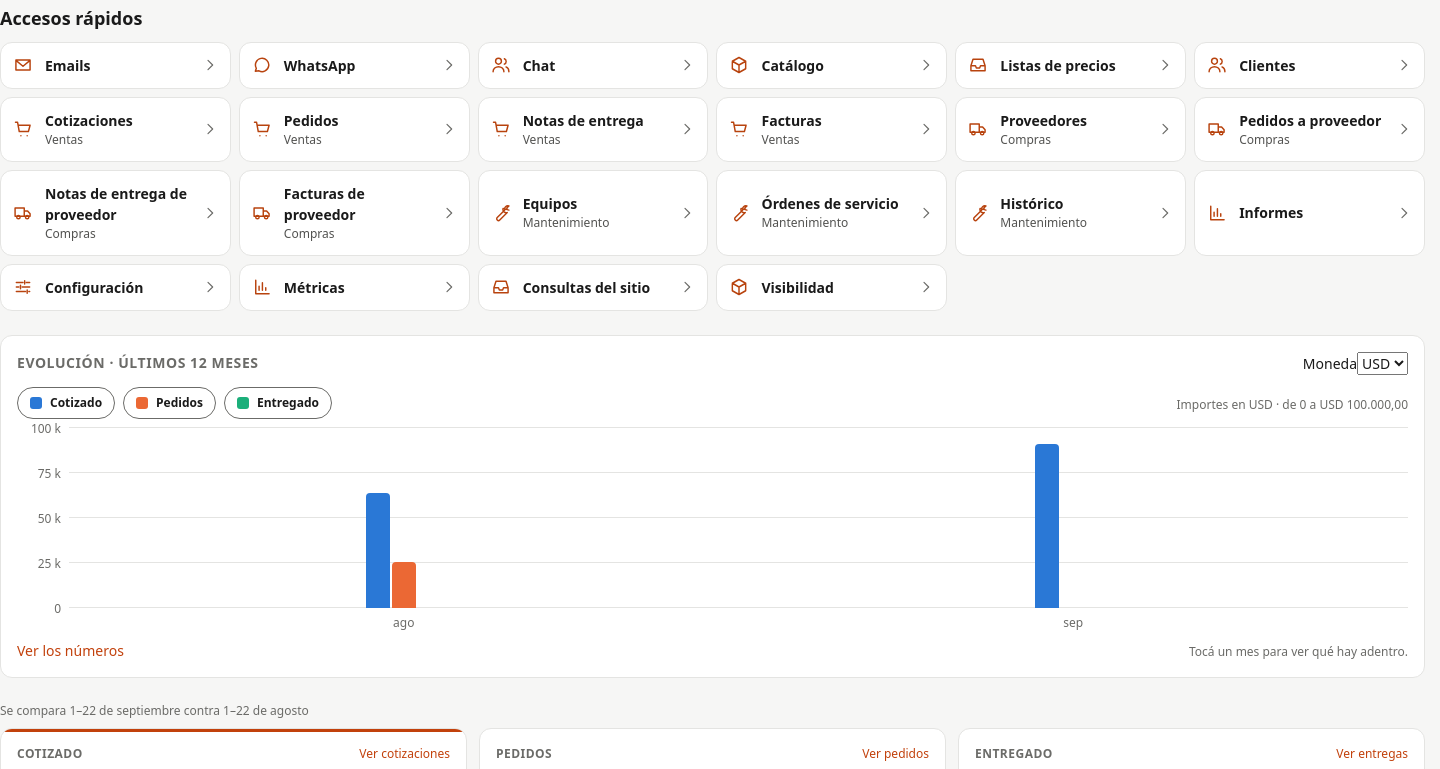
E · El desglose del mes › con un mes abierto, la pista deja de invitar
Click the 2nd button named "Septiembre 2026": x=1073, y=517 [738,426,1408,608]
(page scrolled)
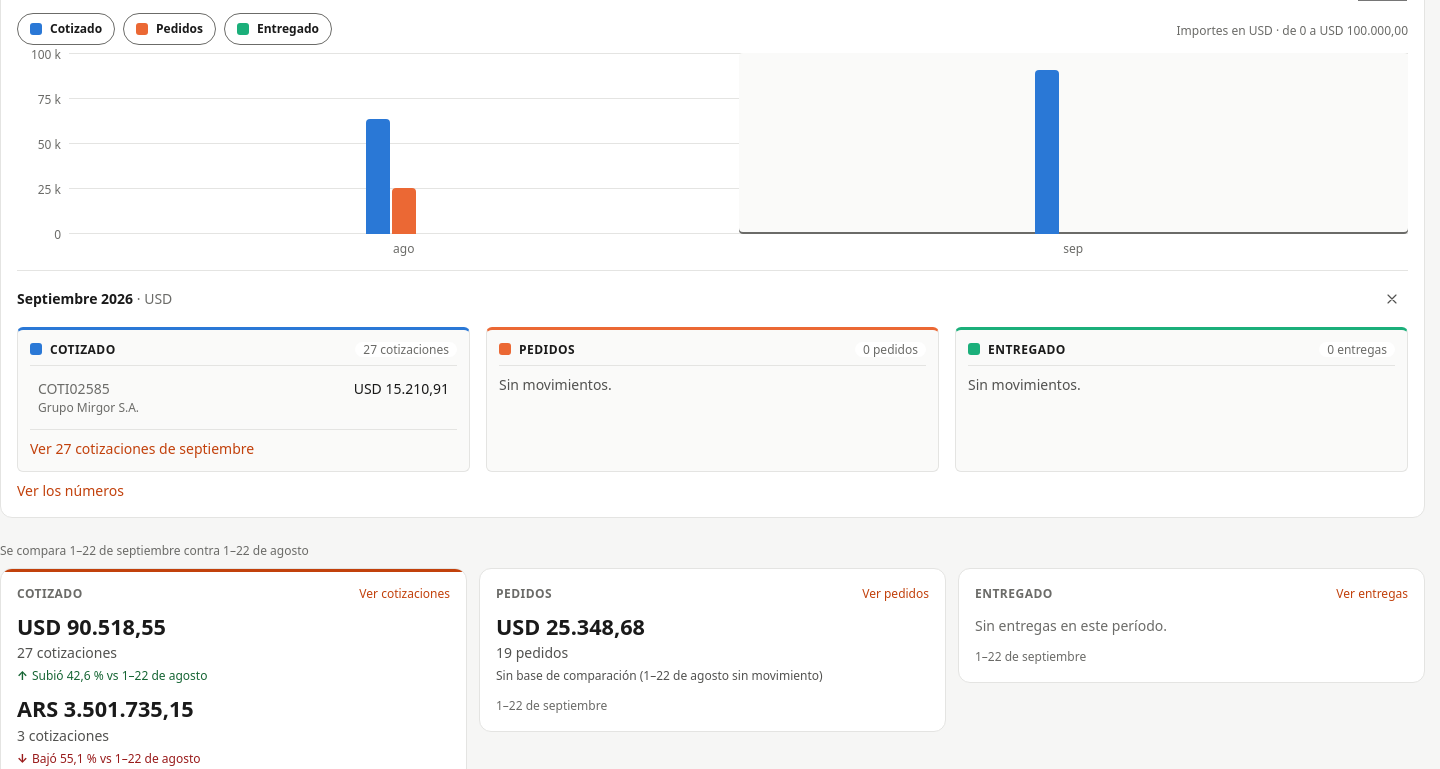
Check: the element named "Detalle de Septiembre 2026" is shown, box [17,270,1408,472]
Check: the text "Tocá un mes para ver qué hay adentro." is gone
